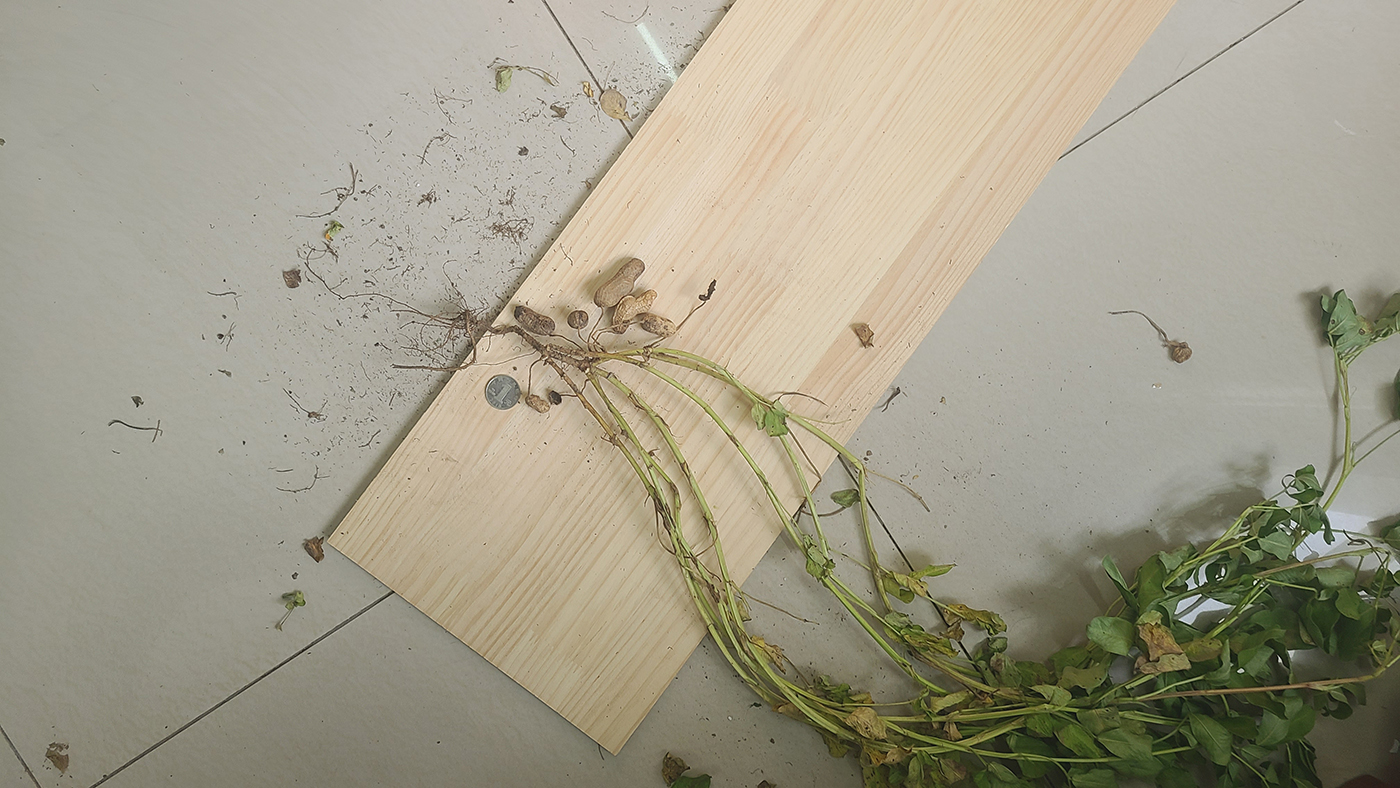h: (593, 259, 644, 307), (612, 290, 659, 333), (642, 315, 676, 337)
l: (514, 306, 555, 335), (569, 310, 589, 329), (527, 395, 548, 413), (549, 391, 561, 407)
